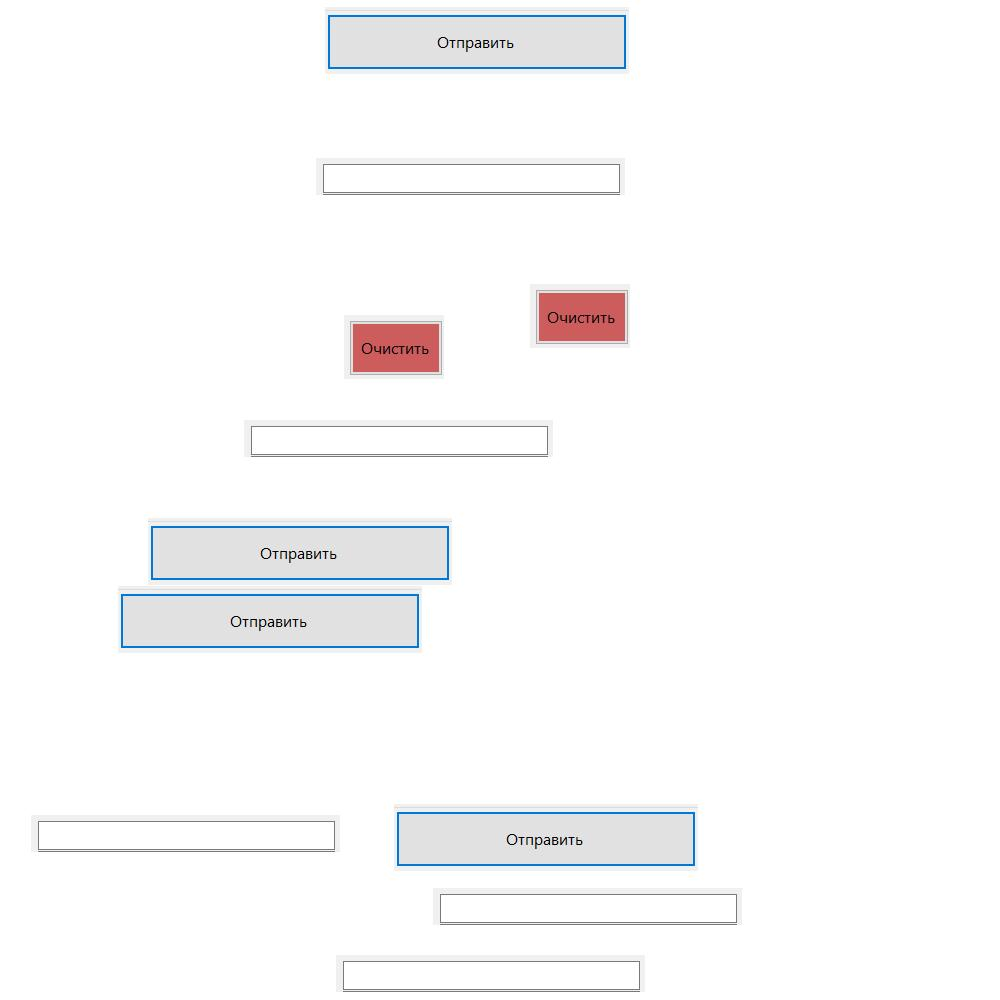Button: (394, 804, 698, 871), (148, 518, 452, 585), (118, 586, 422, 653), (325, 7, 629, 74), (344, 315, 444, 379), (530, 284, 630, 348)
EditText-: (433, 888, 742, 925), (31, 815, 340, 852), (316, 158, 625, 195), (244, 420, 553, 457), (336, 955, 645, 992)
